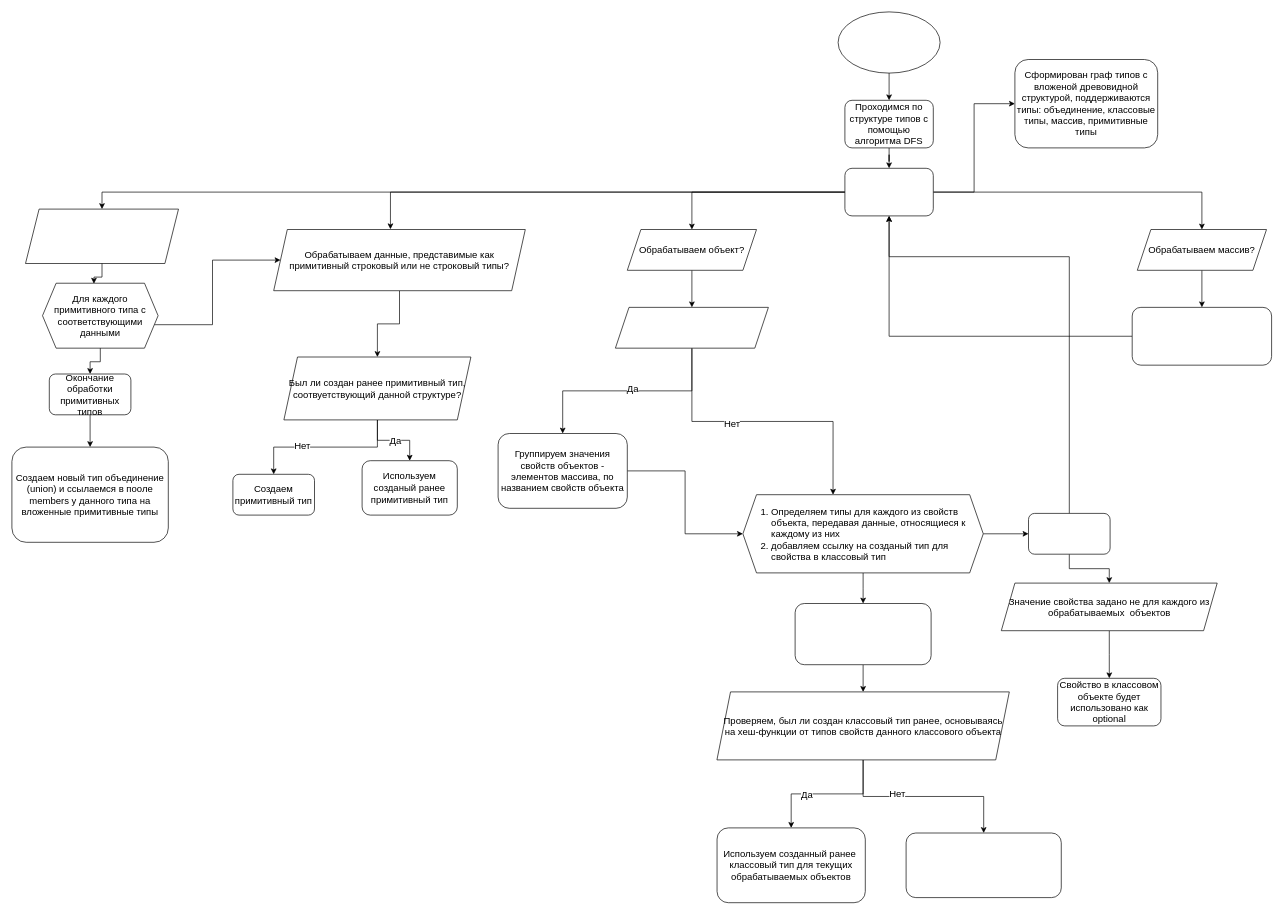
This 1284x915 diagram has some shape labels left out. Each missing label, with the centre of its shape:
"Для каждого из обрабатываемых свойств" belongs at point 1069,533.
"Извлекаем вложенные структуры типов на уровень ниже" belongs at point 888,192.
"Обрабатываем данные, основыванные на нескольких примитивных типов?" belongs at point 101,236.
"Объект внутри массива?" belongs at point 691,327.
"Окончание обработки свойств классового типа" belongs at point 862,634.
"Определяем тип элементов массива" belongs at point 1202,336.
"Переменная topLevels, в которой хранится структура типов" belongs at point 888,42.
"Создаем классовый тип, добавляя в него ссылки на типы свойств" belongs at point 983,865.
